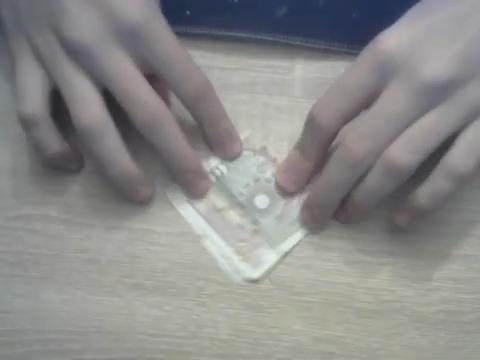10leva: (171, 149, 305, 282)
